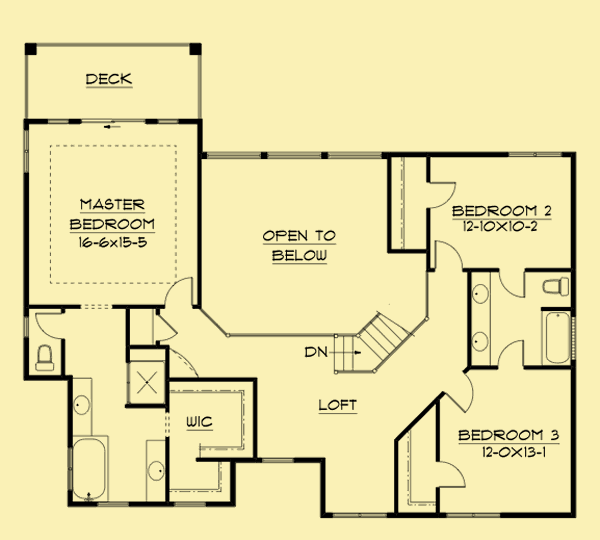door: (442, 372, 480, 416), (431, 237, 465, 273), (427, 179, 459, 213), (161, 276, 195, 308), (498, 268, 530, 300), (495, 338, 528, 369), (34, 309, 64, 343), (435, 461, 469, 489), (151, 313, 180, 343)
large_sink: (537, 272, 569, 299), (33, 344, 58, 375)
small_sink: (471, 271, 494, 370), (70, 376, 95, 437), (142, 436, 165, 502)
stairs: (328, 309, 410, 376)
tub: (72, 435, 108, 501), (541, 308, 569, 368)
window: (203, 149, 264, 161), (325, 151, 385, 161), (20, 129, 32, 175), (265, 152, 326, 161), (507, 149, 561, 159), (332, 511, 387, 520), (258, 454, 296, 465)
